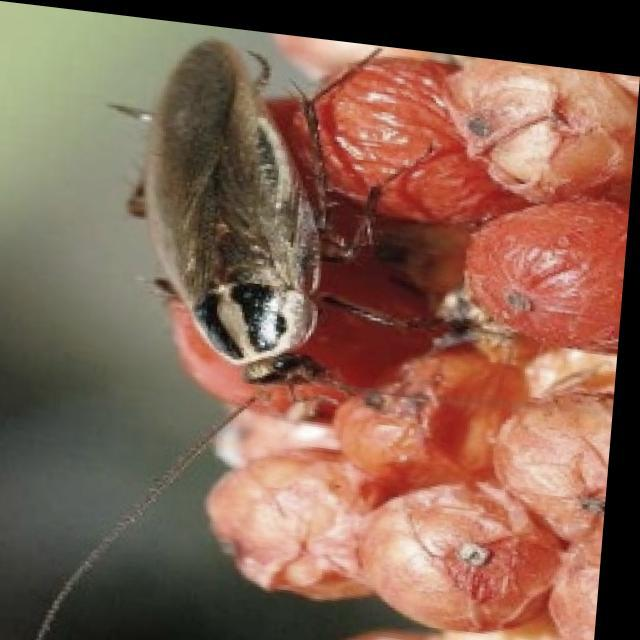cockroach: (109, 41, 376, 389)
